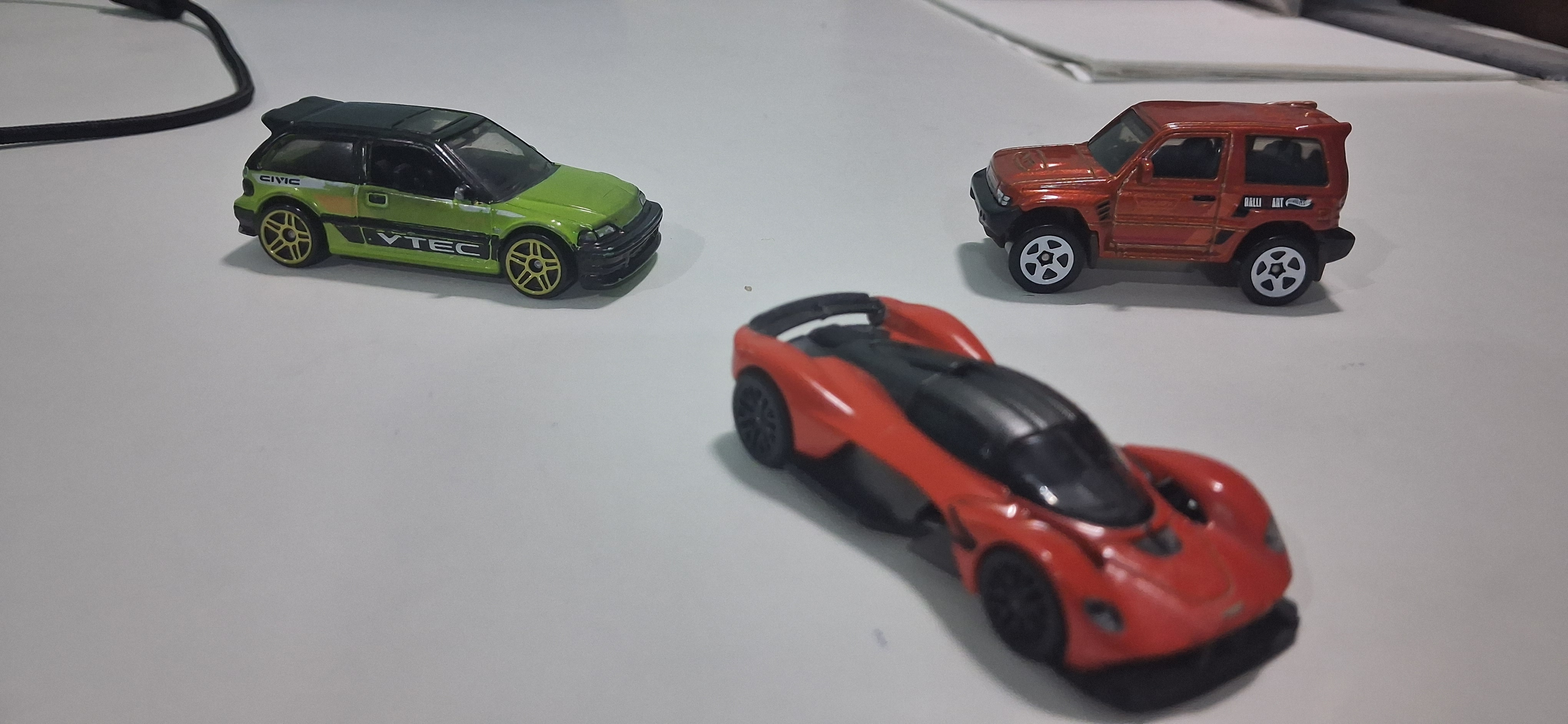Aston_Martin_Valkyrie: (712, 285, 1343, 723)
Honda_Civic: (228, 63, 672, 322)
Mitsubishi_Pajero_Evolution: (954, 84, 1396, 324)
